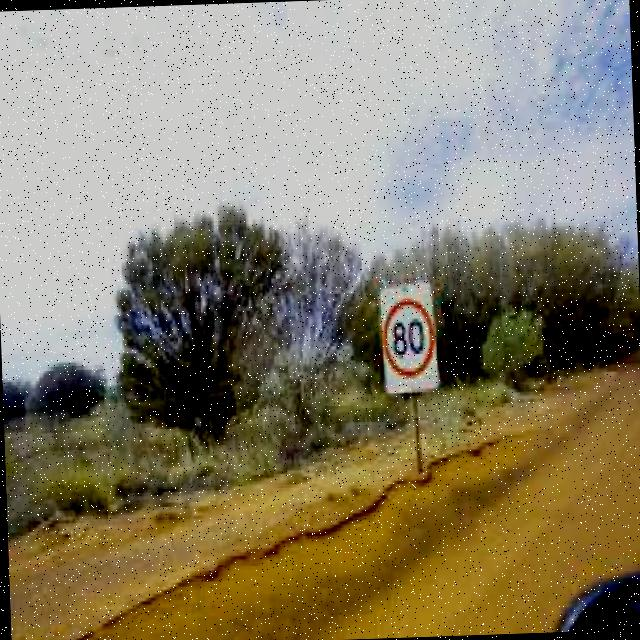Ograniczenie predkosci do 80: (378, 296, 438, 379)
